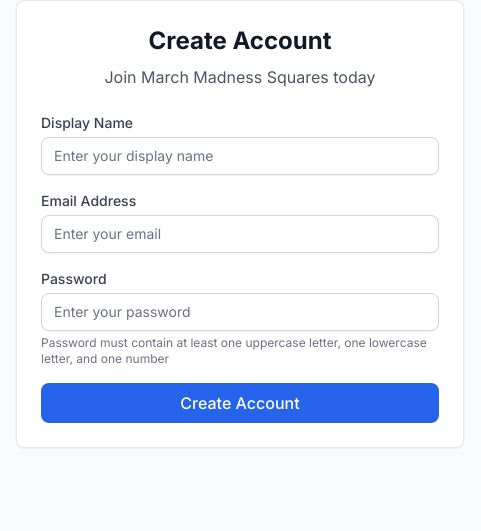
Scenario: RegisterForm › displays server error when registration fails
Step 1. Type "John Doe" into the field labelled "Display Name" → (240, 156), box 41,137 -> 439,175
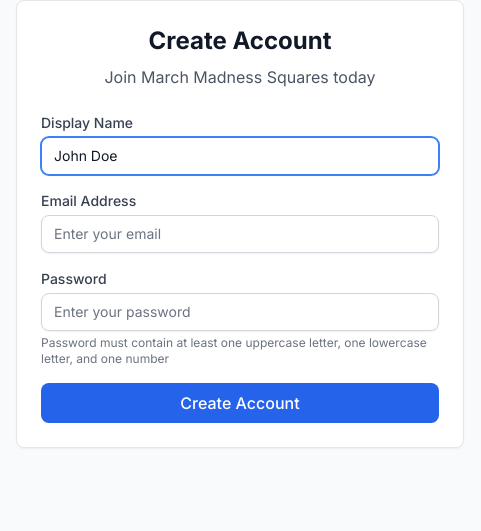
Step 2. Type "existing@example.com" into the field labelled "Email Address" → (240, 234), box 41,215 -> 439,253
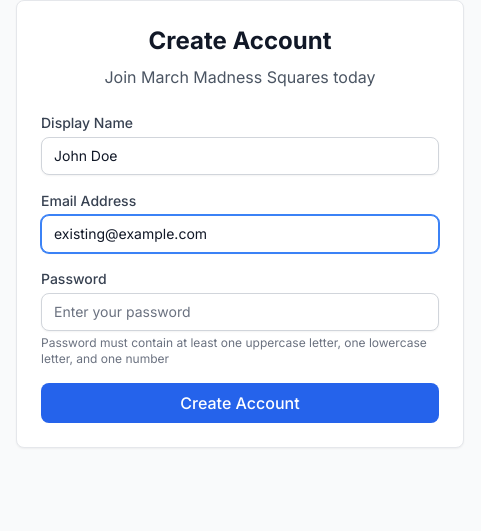
Step 3. Type "Password123" into the password field labelled "Password" → (240, 312), box 41,293 -> 439,331
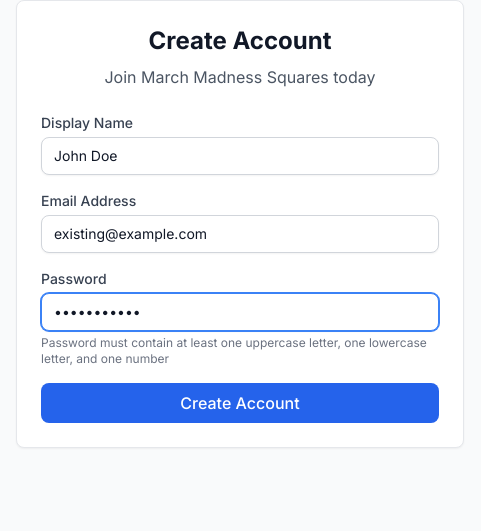
Step 4. Click the button "Create Account" → (240, 403), box 41,383 -> 439,423
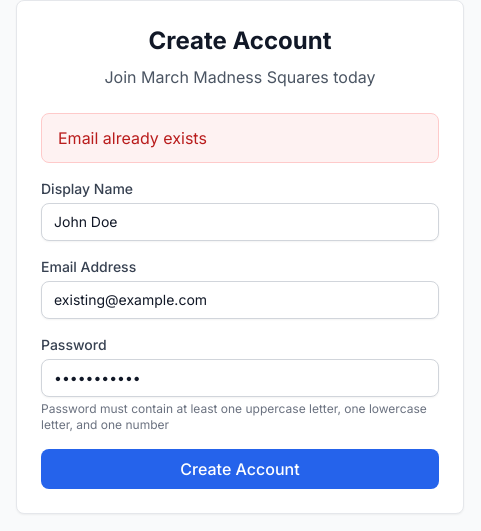
Expected: the text "Email already exists" is shown, 41,113 -> 439,163
